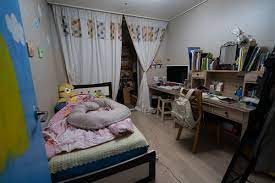Bed: (45, 82, 157, 183)
Chair: (169, 83, 215, 152)
curtain: (50, 5, 123, 87), (123, 13, 169, 115)
